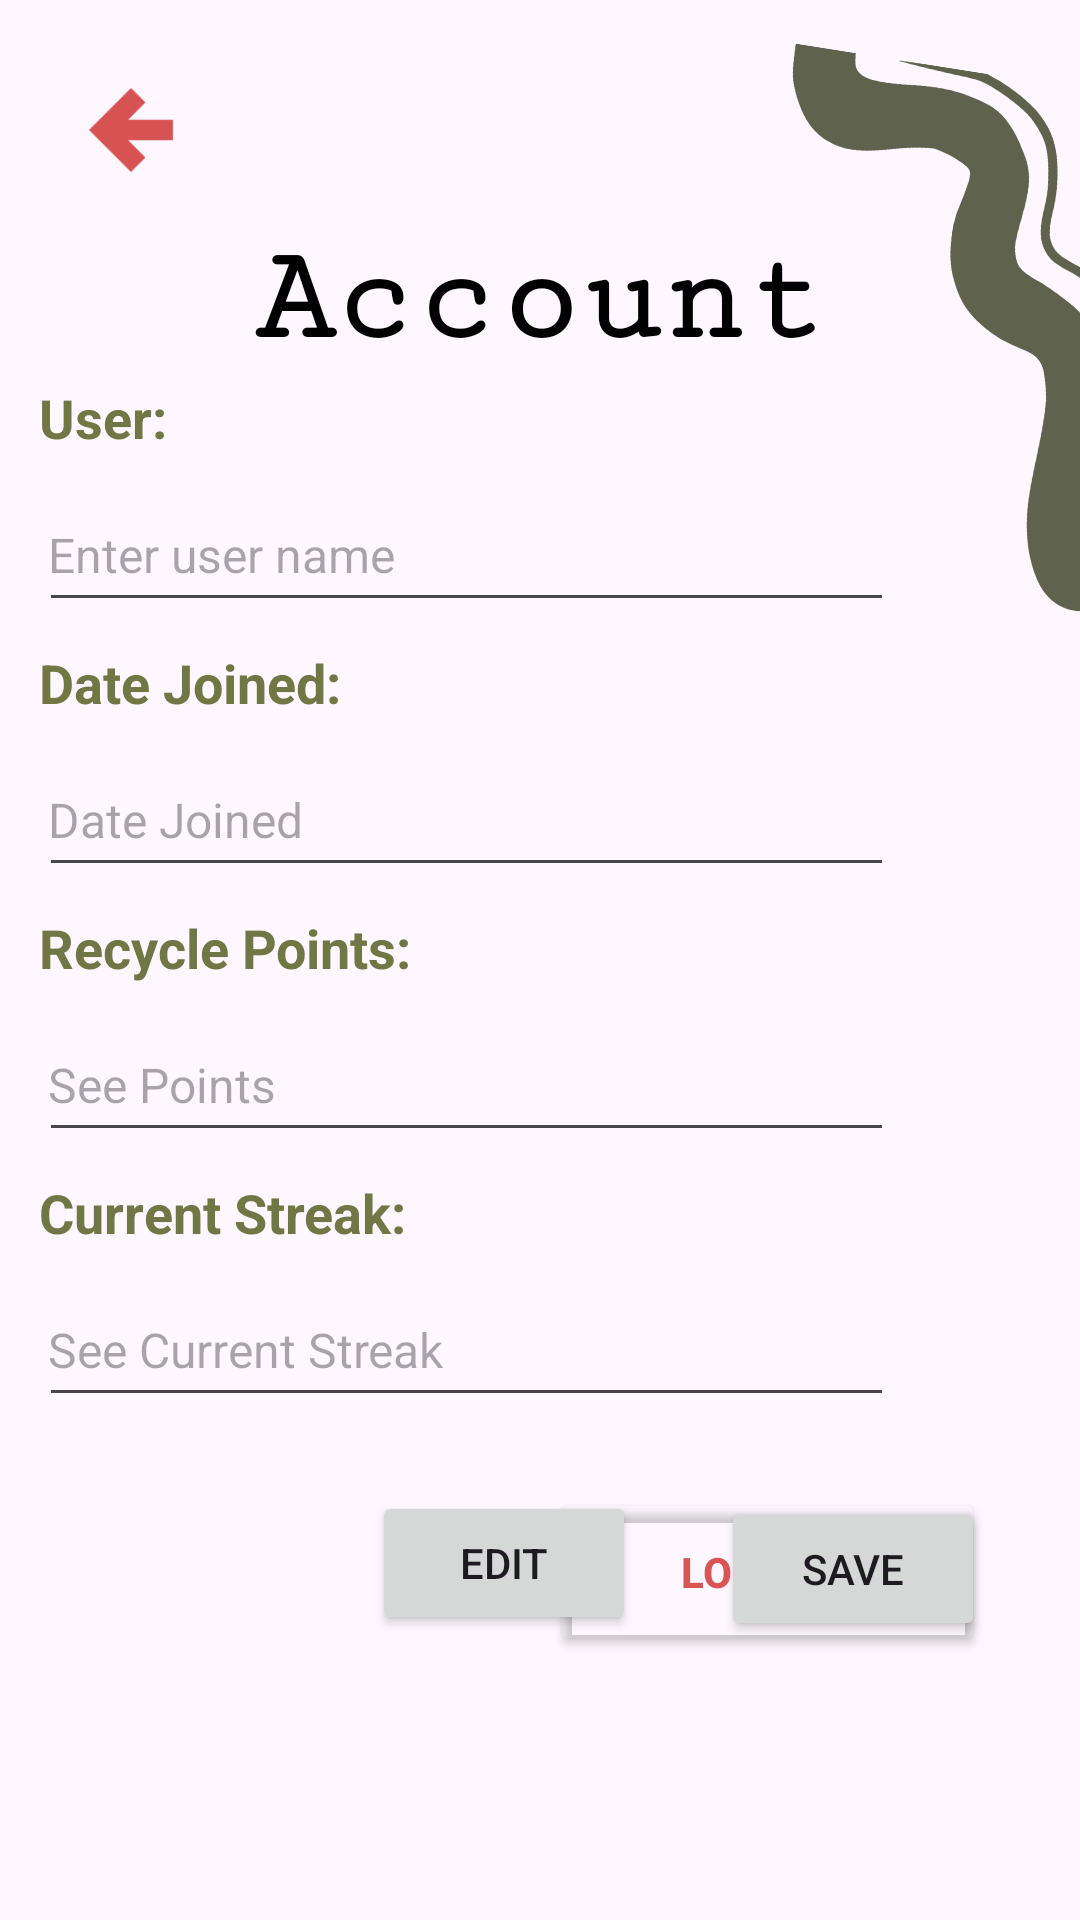

Named icons in this screenshot (1080px×1920px) and their centers, point (x, y):
back arrow: point (131, 130)
